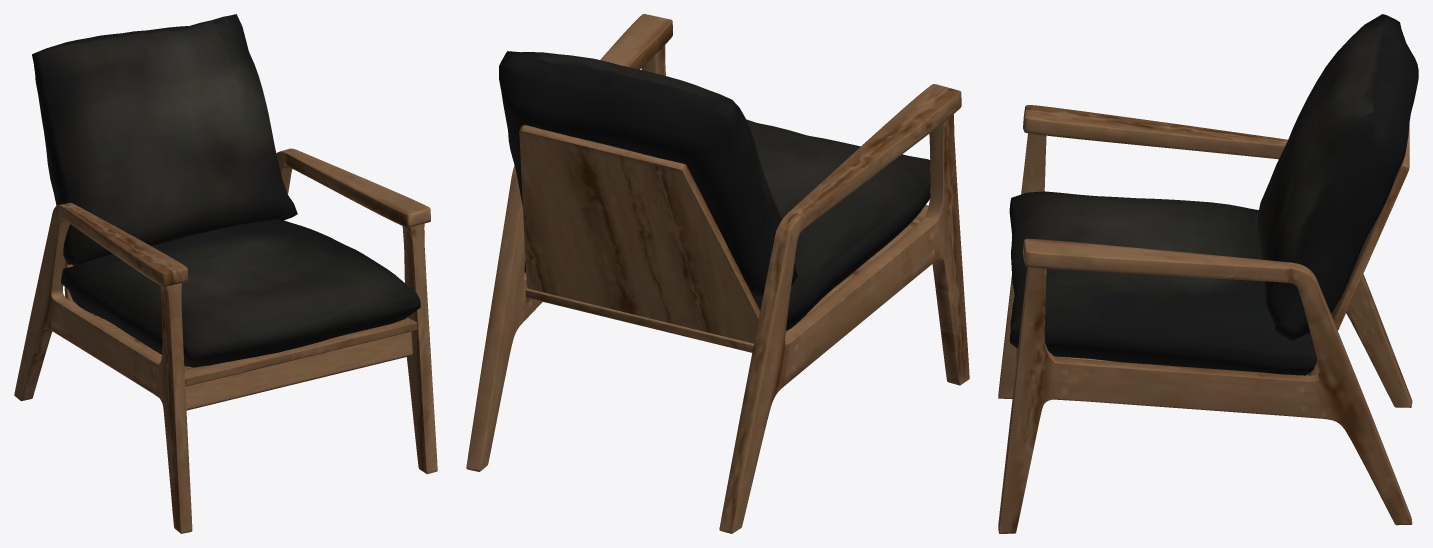
File: armchair-balanced-52f9dbec19.glb
3 views of the same model, side by side, from view 1: azimuth 30°, elevation 25°; view 2: azimuth 150°, elevation 25°; view 3: azimuth 270°, elevation 25° (orthographic). The views are drawn at different scales.
Visible parts, largest first — view 1: modern_arm_chair_01; view 2: modern_arm_chair_01; view 3: modern_arm_chair_01.
Boxes of the visible parts, x1,y1,x2,y2 form: modern_arm_chair_01: (14,14,437,533); modern_arm_chair_01: (466,14,969,533); modern_arm_chair_01: (998,14,1418,533).
Bounding box in the file's own units: 0.8204 × 1.02 × 0.9865.
Materials: 2 (2 with a texture image).
